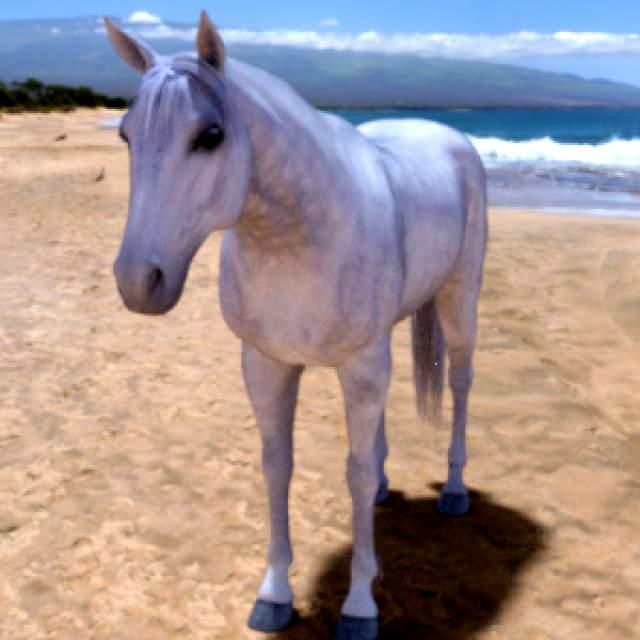horse: (106, 12, 488, 639)
